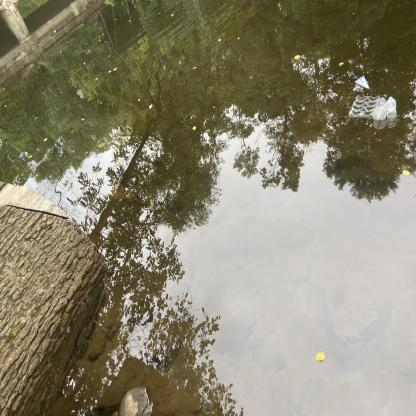trash: (348, 94, 382, 119), (385, 94, 399, 130), (372, 96, 388, 123), (352, 74, 370, 93)
